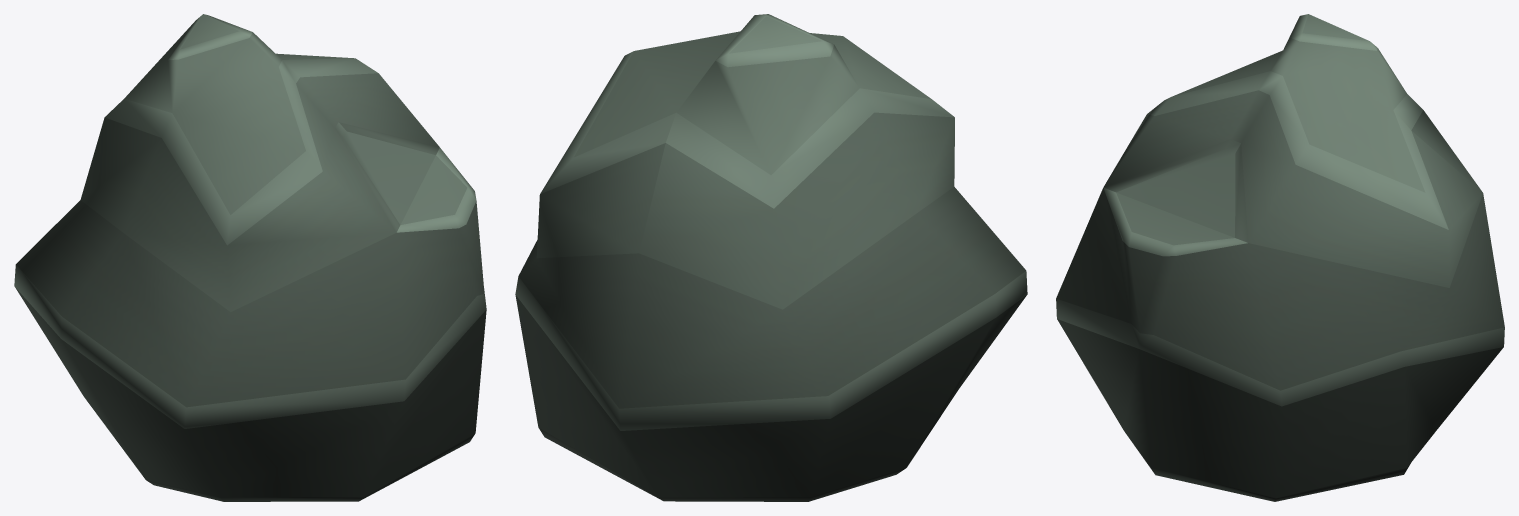
The model's file is stone_2.fbx.
3 views of the same model, side by side, from view 1: azimuth 30°, elevation 25°; view 2: azimuth 150°, elevation 25°; view 3: azimuth 270°, elevation 25° (orthographic). The views are drawn at different scales.
Visible parts, largest first — view 1: stone_2; view 2: stone_2; view 3: stone_2.
Boxes of the visible parts, box(x1,y1,x2,y2) form: stone_2: box(14, 14, 486, 501); stone_2: box(515, 14, 1027, 501); stone_2: box(1056, 14, 1504, 501).
Size of the model in its own units: 210 by 220 by 205.
1 material, 1 textured.
